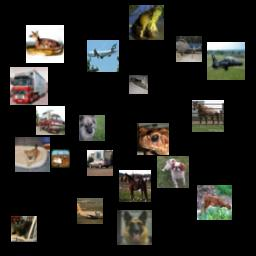airplane: (207, 42, 245, 80), (87, 40, 119, 72), (77, 198, 103, 224), (176, 36, 202, 62)
automobile: (87, 150, 113, 176)
cat: (11, 216, 37, 242), (129, 75, 148, 94)
deer: (26, 25, 64, 63), (197, 185, 232, 220), (51, 149, 70, 168)
dog: (117, 210, 152, 245), (15, 137, 50, 172), (157, 156, 189, 188), (79, 115, 105, 141)
frog: (129, 5, 164, 40), (137, 123, 169, 155)
truck: (10, 67, 48, 105), (36, 106, 65, 135)
